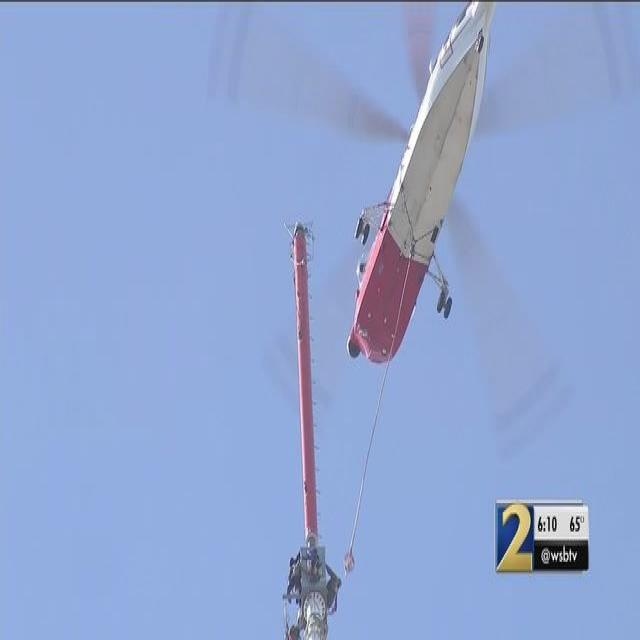helicopter: (272, 3, 448, 390)
